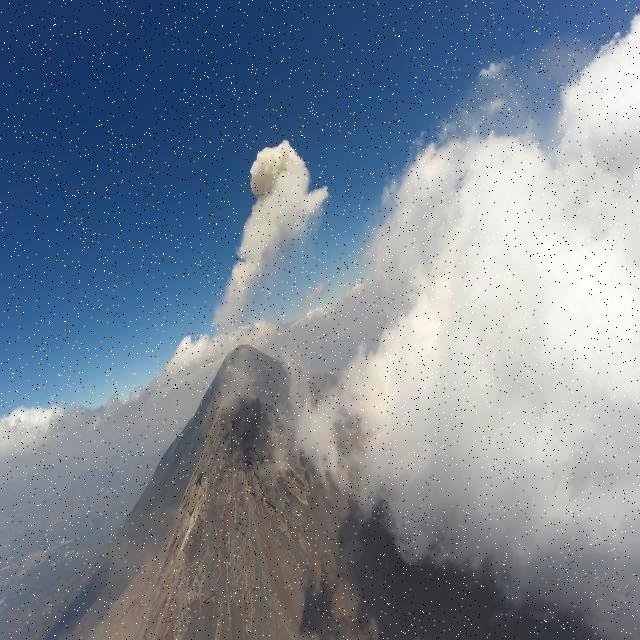Plume: (206, 131, 326, 338)
Summit: (127, 376, 376, 640)
